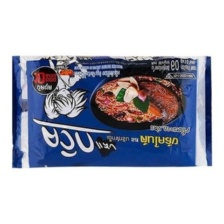snack: (3, 47, 218, 181)
